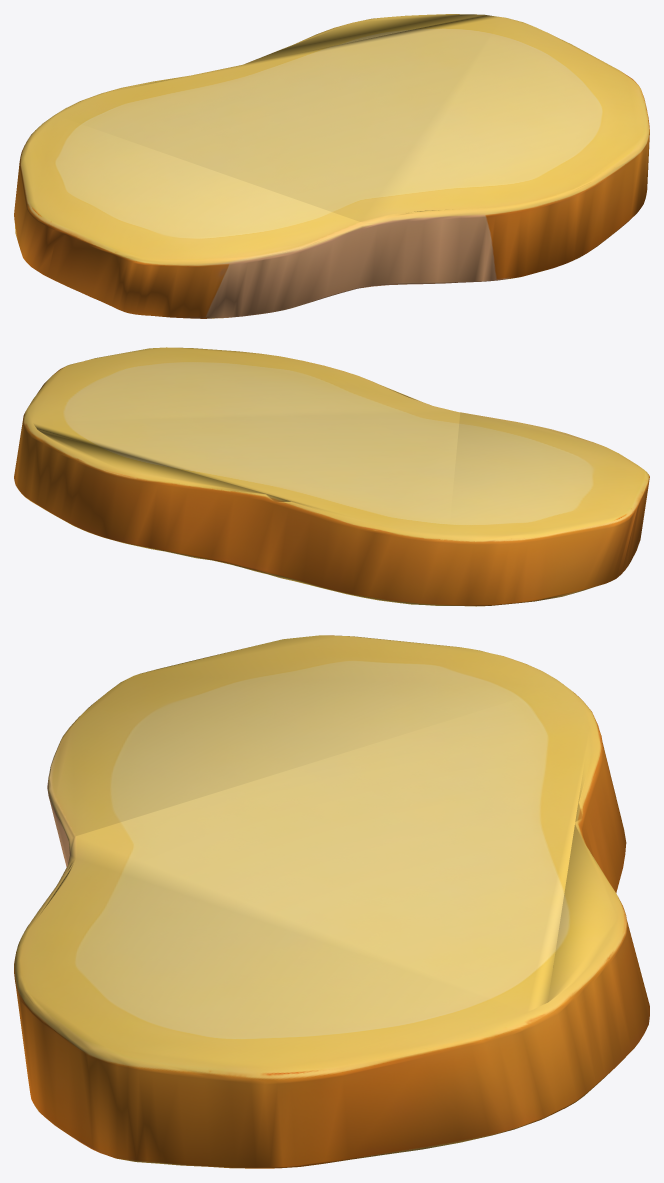
File: Ginger_Slice.fbx
3 views of the same model, one above another, from view 1: azimuth 30°, elevation 25°; view 2: azimuth 150°, elevation 25°; view 3: azimuth 270°, elevation 25° (orthographic). The views are drawn at different scales.
Parts seen in each view (by area): view 1: mesh_input; view 2: mesh_input; view 3: mesh_input.
Part boxes in pixels (x1,y1,x2,y2): mesh_input: (14,14,649,318); mesh_input: (14,347,649,606); mesh_input: (14,635,649,1168).
Size of the model in its own units: 190 by 33.59 by 115.
Materials: 1 (1 with a texture image).
